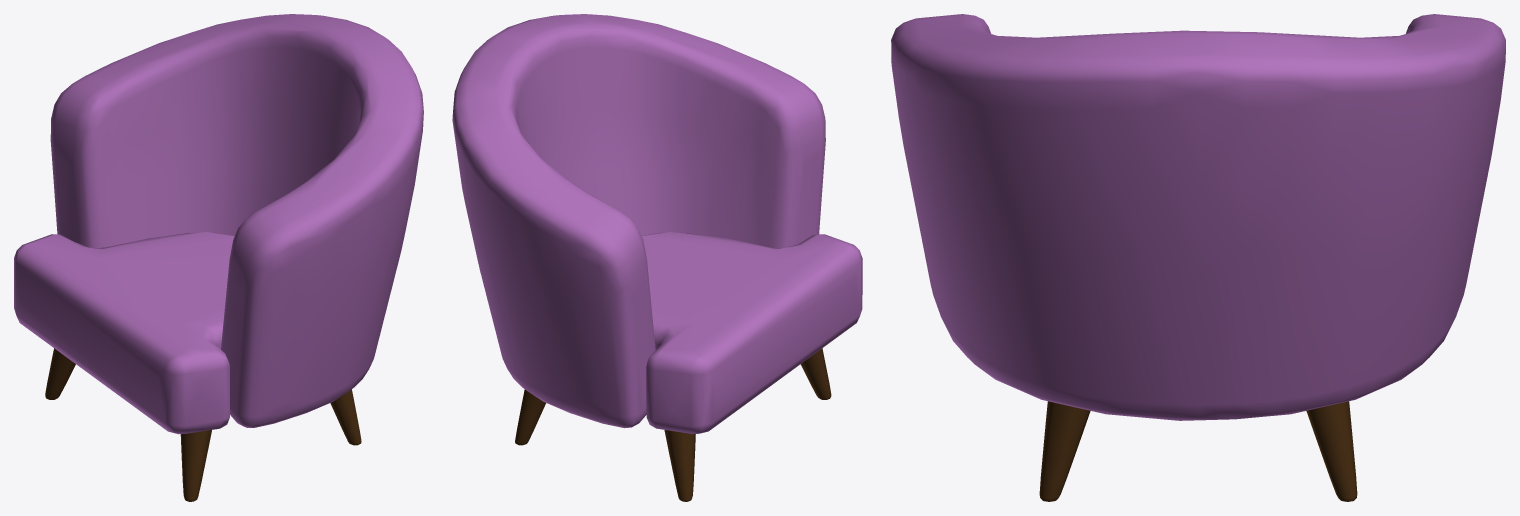
The model's file is armchair_07_purple.fbx.
The picture shows the model from 3 angles, left to right: view 1: azimuth 30°, elevation 25°; view 2: azimuth 150°, elevation 25°; view 3: azimuth 270°, elevation 25°; orthographic projection. The views are drawn at different scales.
Parts seen in each view (by area): view 1: armchair_07_purple; view 2: armchair_07_purple; view 3: armchair_07_purple.
Part boxes in pixels (bbox=[...]): armchair_07_purple: bbox=[14, 14, 423, 501]; armchair_07_purple: bbox=[452, 14, 862, 501]; armchair_07_purple: bbox=[891, 14, 1505, 501].
Bounding box in the file's own units: 102 × 114 × 128.
2 materials, 2 textured.
